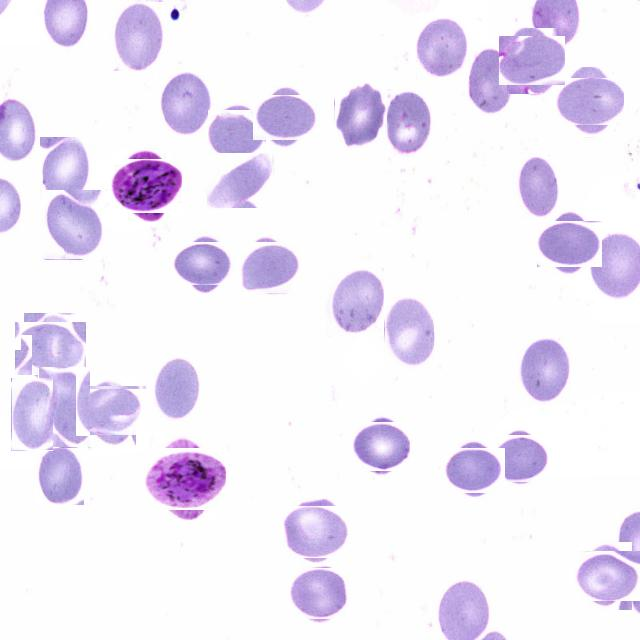red blood cell: (42, 190, 103, 260), (38, 367, 90, 448), (326, 268, 384, 337), (20, 318, 82, 380), (111, 2, 164, 72), (206, 153, 272, 209), (516, 337, 571, 404), (384, 297, 434, 370), (158, 71, 212, 138), (286, 502, 346, 562), (81, 381, 141, 441), (40, 137, 91, 207), (560, 72, 620, 131), (334, 83, 387, 149), (578, 546, 636, 606), (416, 14, 469, 79), (239, 238, 297, 296), (503, 32, 561, 90), (152, 356, 200, 424), (385, 89, 432, 158), (466, 47, 513, 115), (541, 216, 597, 272), (292, 566, 348, 622), (258, 90, 313, 146), (11, 378, 53, 451), (446, 443, 501, 498), (35, 444, 84, 505), (210, 107, 264, 162), (492, 432, 546, 486), (354, 420, 408, 472), (515, 156, 559, 218), (178, 238, 230, 290)
schizont: (149, 443, 221, 515)
trophozoite: (114, 154, 178, 218)
